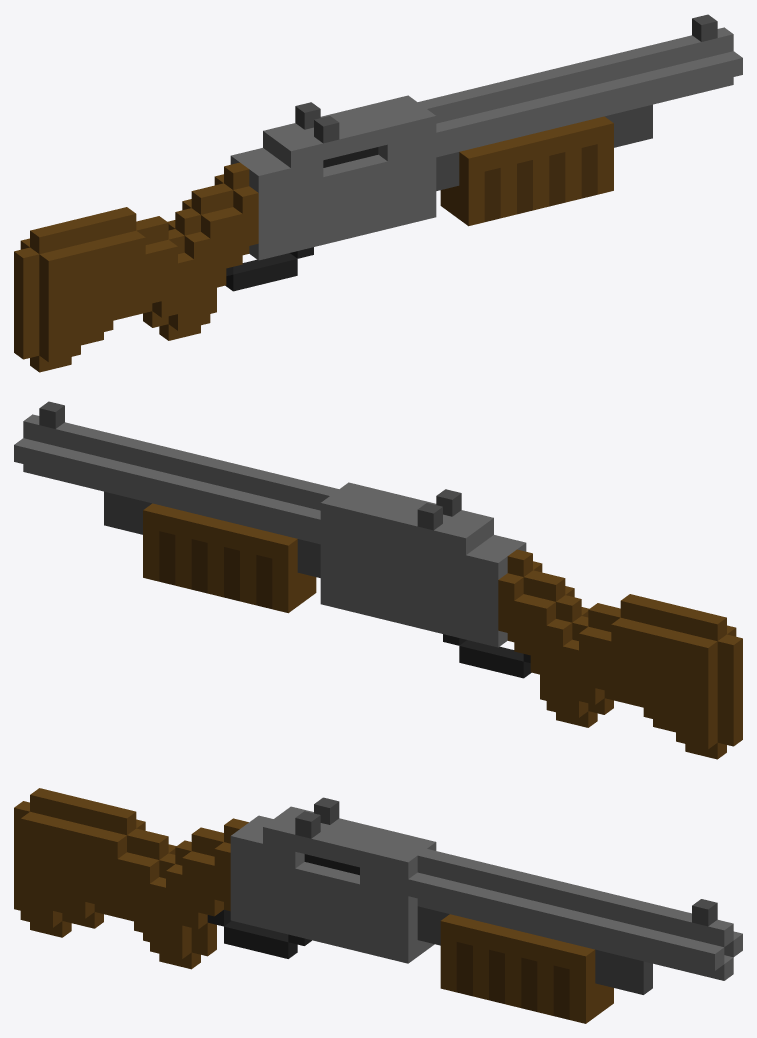
Rendered from drobovik.obj.
The picture shows the model from 3 angles, top to bottom: view 1: azimuth 30°, elevation 25°; view 2: azimuth 150°, elevation 25°; view 3: azimuth 330°, elevation 25°; orthographic projection.
Size of the model in its own units: 4.4 by 1.1 by 0.3.
Materials: 1 (1 with a texture image).
